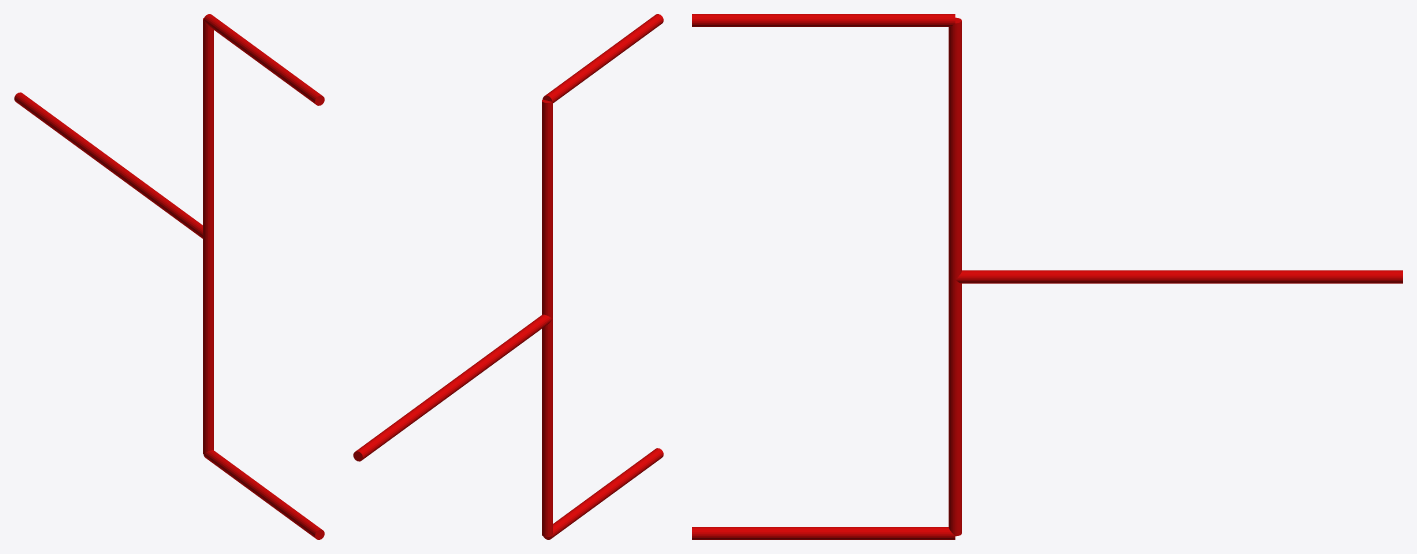
File: grasp.obj
3 renders of one model, left to right at view 1: azimuth 30°, elevation 25°; view 2: azimuth 150°, elevation 25°; view 3: azimuth 270°, elevation 25°, orthographic. The views are drawn at different scales.
Bounding box in the file's own units: 0.002 × 0.088 × 0.108.
